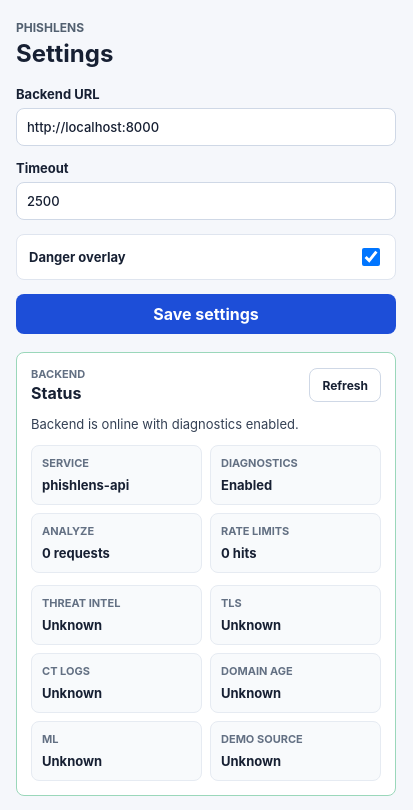
Options › saves settings and refreshes backend status on submit
Type "http://127.0.0.1:8000" into the field showing "http://localhost:8000" at (206, 127), box x1=16 y1=108 x2=396 y2=146
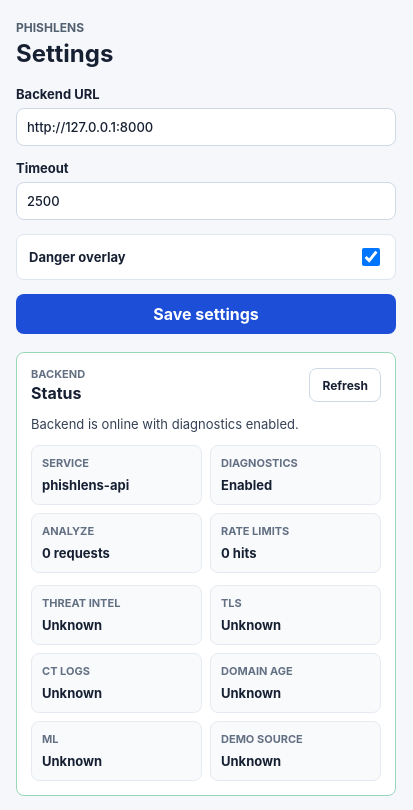
Click the button "Save settings" at (206, 314), box x1=16 y1=294 x2=396 y2=334
(page scrolled)
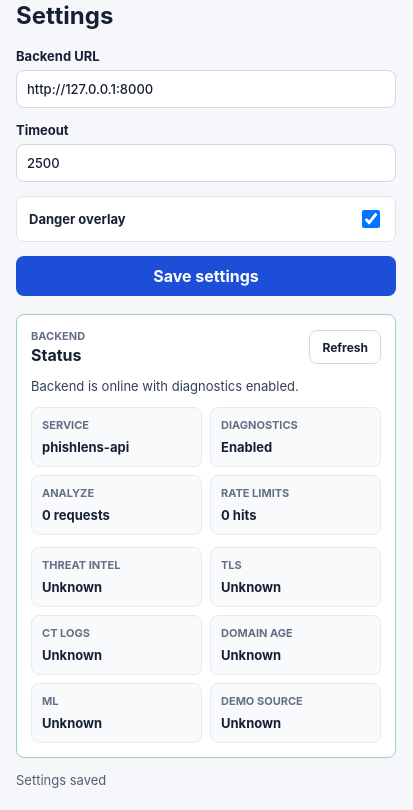
expect the text "Settings saved" is shown: met, box x1=16 y1=772 x2=106 y2=788
